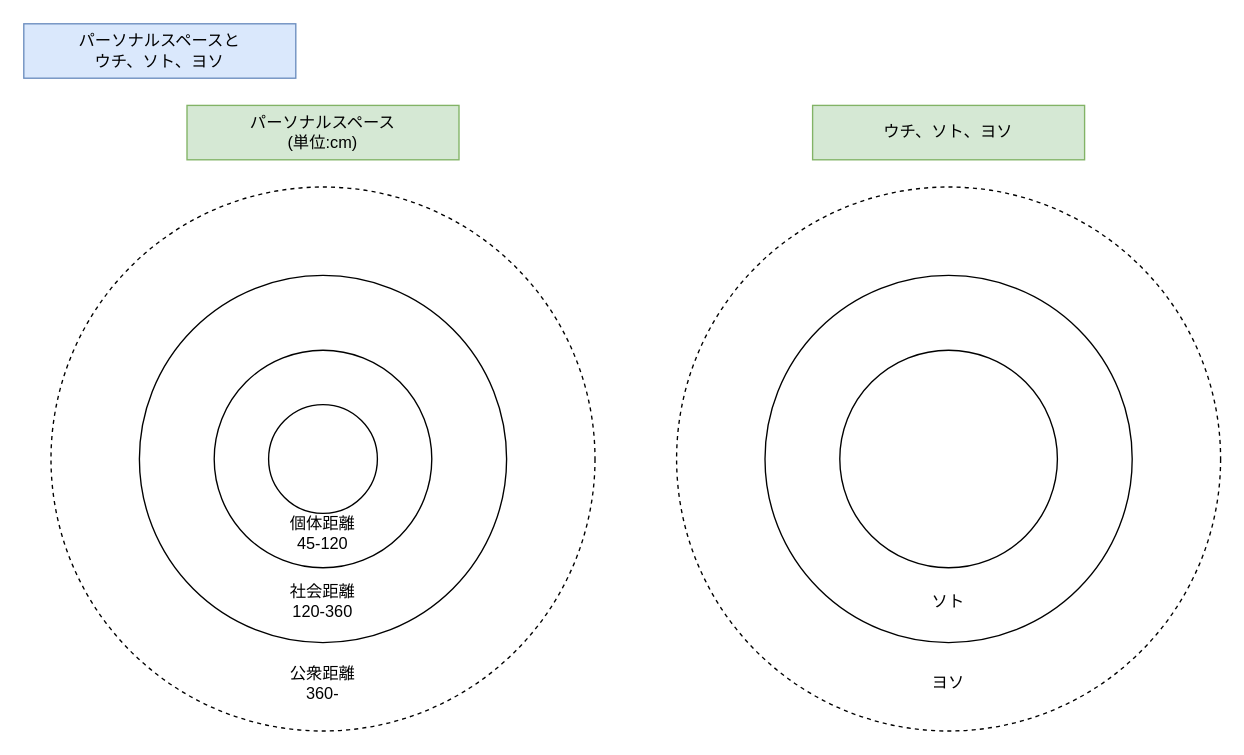
This 1244x755 diagram has some shape labels left out. The shapes that lost their labels are listed below. From the top down, each one's centre as x and y in pixels, then its label:
the point at 322,458: 親密距離 0-45
the point at 947,458: ウチ
